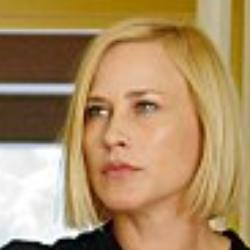face: (48, 14, 250, 230)
